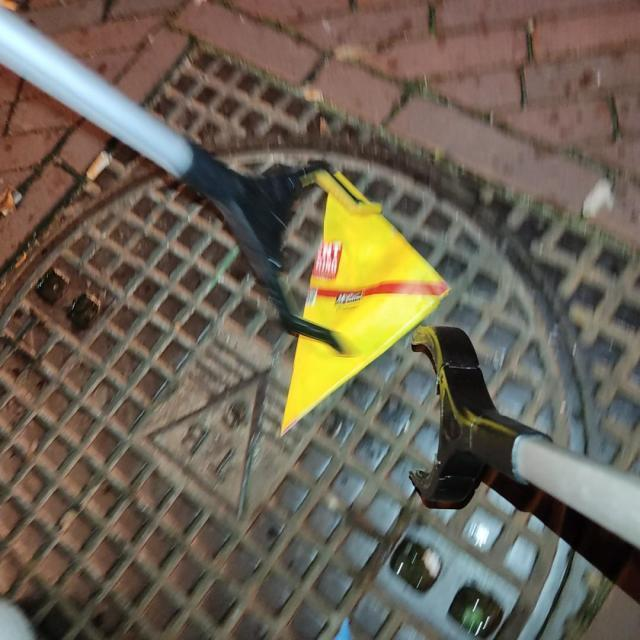Paper: (278, 188, 453, 437)
